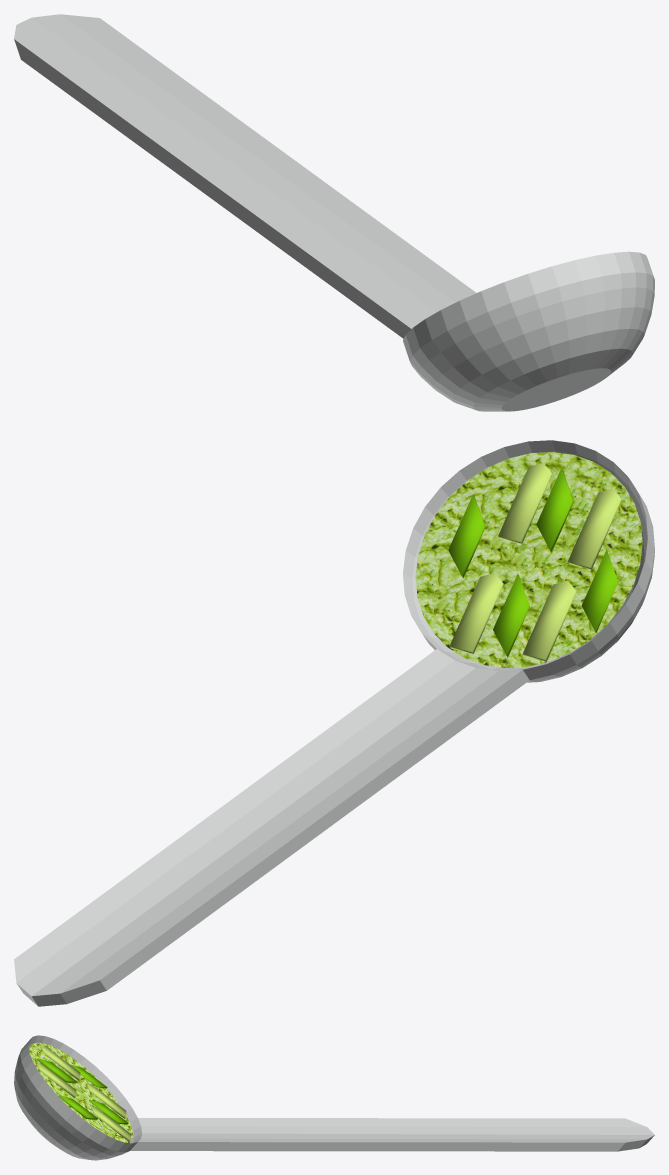
The model's file is CucharaDef.fbx.
The picture shows the model from 3 angles, top to bottom: view 1: azimuth 30°, elevation 25°; view 2: azimuth 150°, elevation 25°; view 3: azimuth 270°, elevation 25°; orthographic projection. The views are drawn at different scales.
Parts seen in each view (by area): view 1: Cuchara; view 2: Cuchara, Aguacate, RepolloLleno; view 3: Cuchara, RepolloLleno, Aguacate.
Boxes of the visible parts, x1,y1,x2,y2 form: Cuchara: [14, 14, 654, 411]; Cuchara: [14, 440, 654, 1006]; Aguacate: [415, 452, 642, 667]; RepolloLleno: [448, 463, 621, 661]; Cuchara: [14, 1035, 654, 1160]; RepolloLleno: [36, 1045, 130, 1141]; Aguacate: [29, 1042, 132, 1142].
Bounding box in the file's own units: 4.66 × 3.69 × 20.
